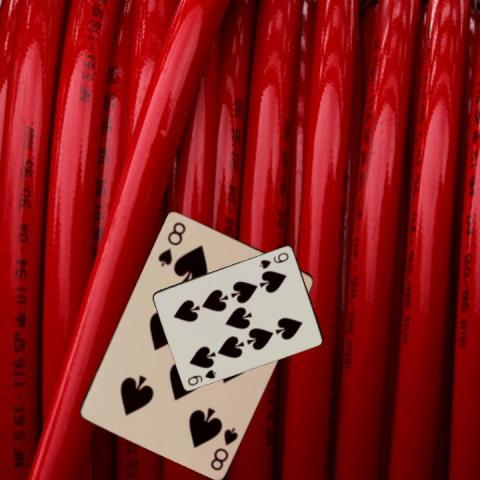8s: (155, 218, 187, 268), (207, 424, 239, 472)
9s: (257, 249, 290, 270), (185, 366, 218, 387)
